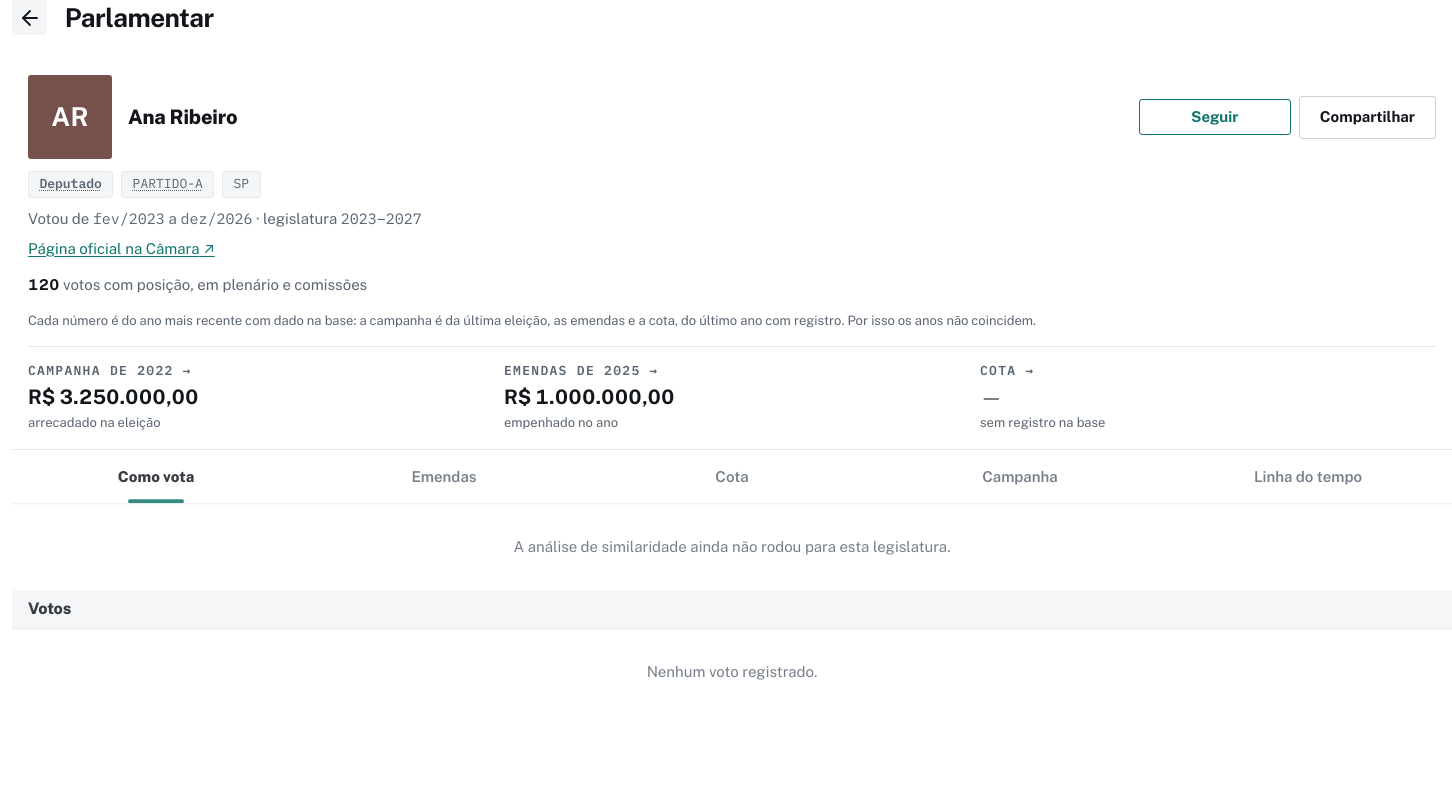
Test case: contas — quem recebeu a emenda › as fitas das emendas do ano fecham com o que quem recebeu recebeu
Click the link "Emendas" at (444, 477), box x1=412 y1=469 x2=476 y2=486
(page scrolled)
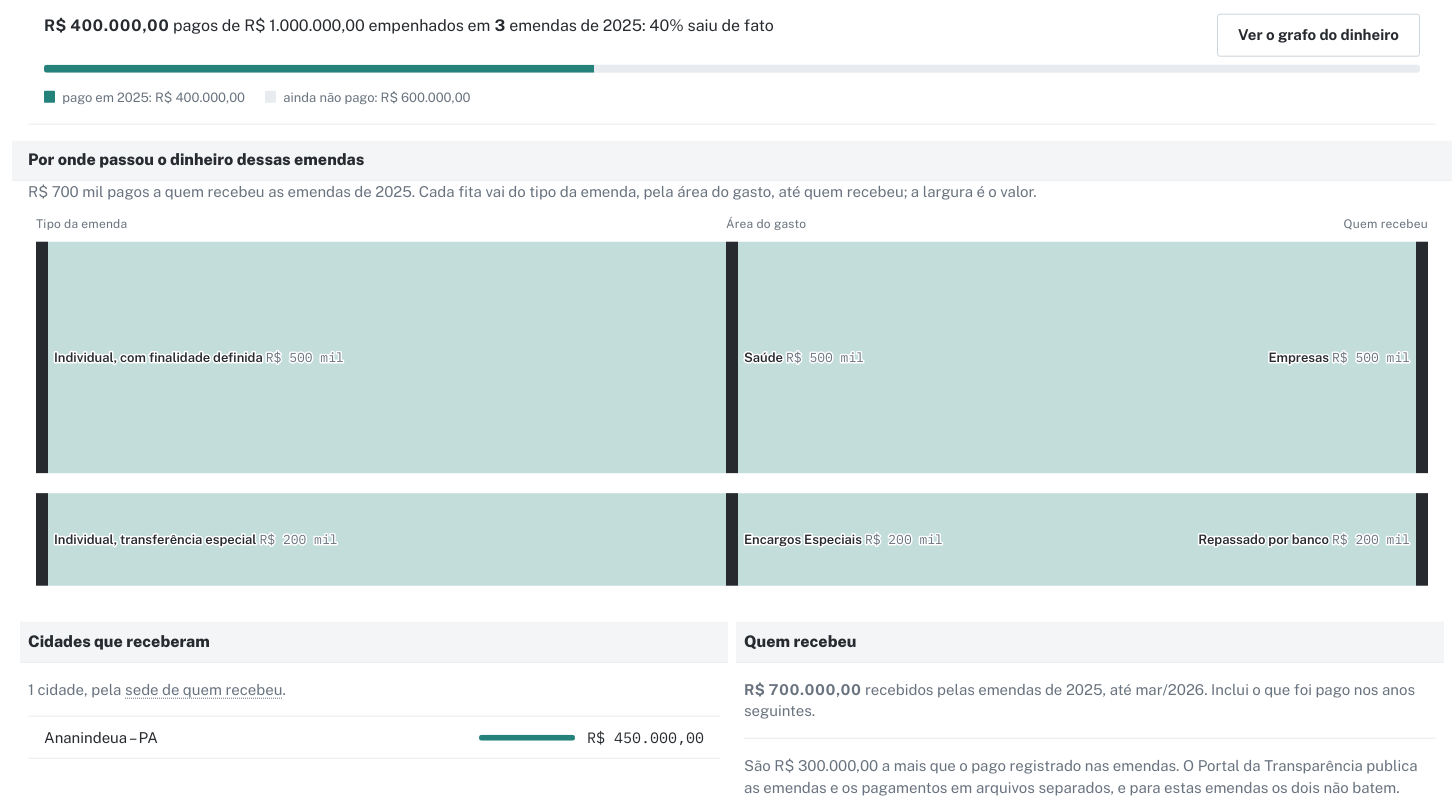
Expected: the heading "Por onde passou o dinheiro dessas emendas" is shown, x1=12 y1=140 x2=1451 y2=180
Expected: the picture named "R$ 700 mil das emendas de 2025, por tipo, área e quem recebeu" is shown, x1=28 y1=214 x2=1436 y2=594
